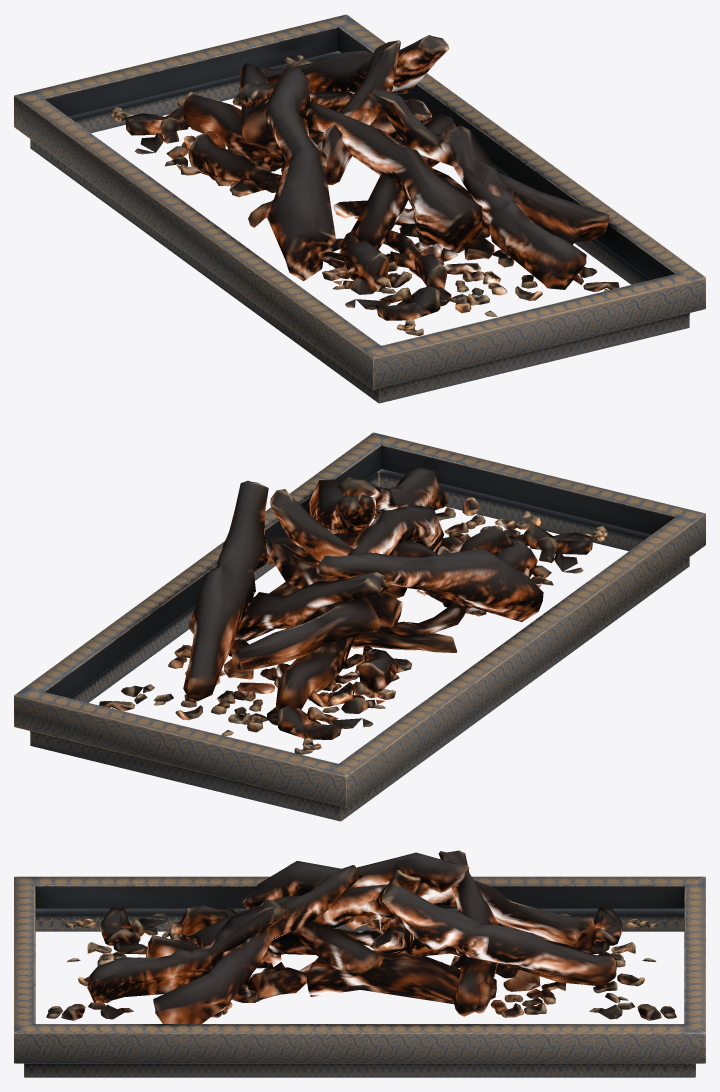
Rendered from SM_BurntWood.fbx.
3 views of the same model, one above another, from view 1: azimuth 30°, elevation 25°; view 2: azimuth 150°, elevation 25°; view 3: azimuth 270°, elevation 25° (orthographic). The views are drawn at different scales.
Parts seen in each view (by area): view 1: SM_BurntWood_LOD0; view 2: SM_BurntWood_LOD0; view 3: SM_BurntWood_LOD0.
Part boxes in pixels (x1,y1,x2,y2): SM_BurntWood_LOD0: (14,14,705,403); SM_BurntWood_LOD0: (14,432,705,821); SM_BurntWood_LOD0: (14,850,705,1077).
Bounding box in the file's own units: 71.24 × 133 × 34.2.
Materials: 1 (1 with a texture image).
